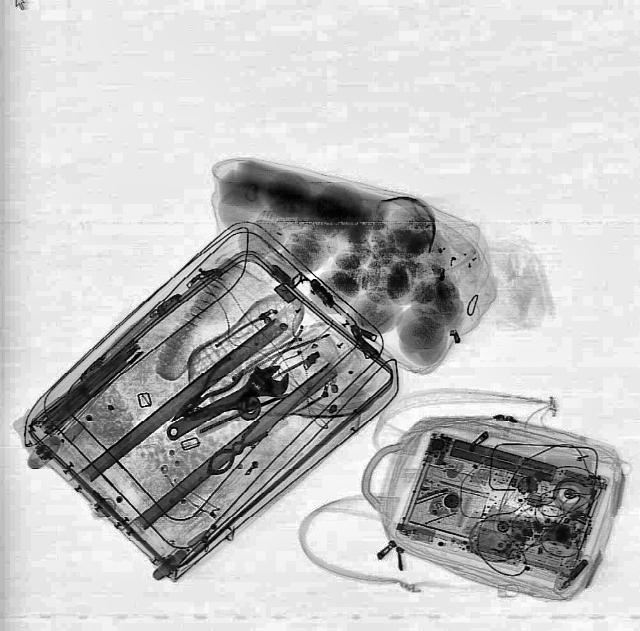Pliers: (158, 352, 248, 432)
Wrench: (156, 355, 298, 451)
